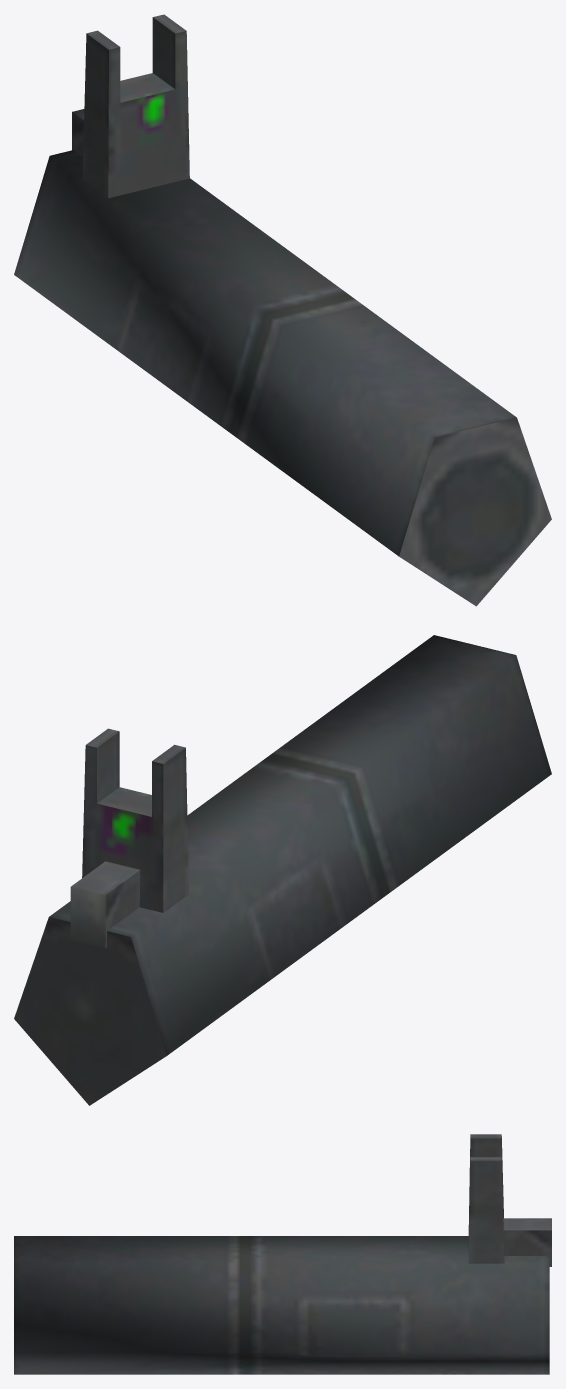
The model's file is Assault_Rifle_bq_qt_01_lod1_Stock_LOD_(000579).glb.
3 views of the same model, one above another, from view 1: azimuth 30°, elevation 25°; view 2: azimuth 150°, elevation 25°; view 3: azimuth 270°, elevation 25° (orthographic). The views are drawn at different scales.
Visible parts, largest first — view 1: bq_qt_01_lod1; view 2: bq_qt_01_lod1; view 3: bq_qt_01_lod1.
Boxes of the visible parts, left/top/right/bottom form: bq_qt_01_lod1: left=14, top=14, right=551, bottom=606; bq_qt_01_lod1: left=14, top=635, right=551, bottom=1105; bq_qt_01_lod1: left=14, top=1134, right=551, bottom=1374.
Size of the model in its own units: 0.0393 by 0.0801 by 0.172.
Materials: 1 (1 with a texture image).
